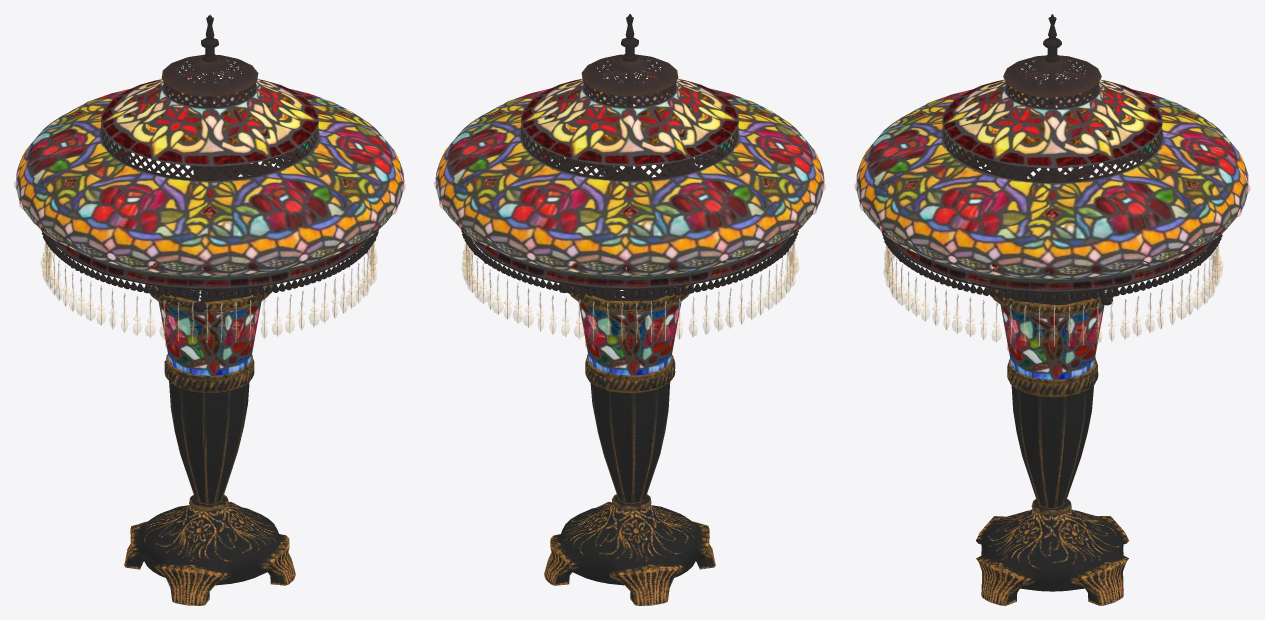
File: tiffany-lamp.glb
3 views of the same model, side by side, from view 1: azimuth 30°, elevation 25°; view 2: azimuth 150°, elevation 25°; view 3: azimuth 270°, elevation 25° (orthographic).
Parts seen in each view (by area): view 1: stainedglass, base, grill, amberbeads, hardware, steel, redgems; view 2: stainedglass, base, grill, amberbeads, hardware, steel, redgems; view 3: stainedglass, base, grill, amberbeads, hardware, steel, redgems.
Part boxes in pixels (x1,y1,x2,y2): stainedglass: (16, 71, 404, 375); base: (124, 263, 295, 605); grill: (101, 55, 317, 180); amberbeads: (41, 242, 377, 342); hardware: (40, 14, 378, 312); steel: (45, 243, 373, 342); redgems: (14, 102, 405, 363); stainedglass: (435, 70, 824, 375); base: (544, 262, 715, 605); grill: (521, 54, 738, 180); amberbeads: (461, 170, 799, 342); hardware: (461, 14, 798, 298); steel: (466, 167, 794, 342); redgems: (434, 104, 825, 363); stainedglass: (856, 71, 1248, 379); base: (976, 265, 1128, 605); grill: (943, 55, 1162, 182); amberbeads: (883, 170, 1223, 346); hardware: (881, 14, 1222, 305); steel: (887, 164, 1218, 346); redgems: (855, 106, 1249, 366).
Size of the model in its own units: 0.4399 by 0.6882 by 0.4399.
8 materials, 4 textured.
